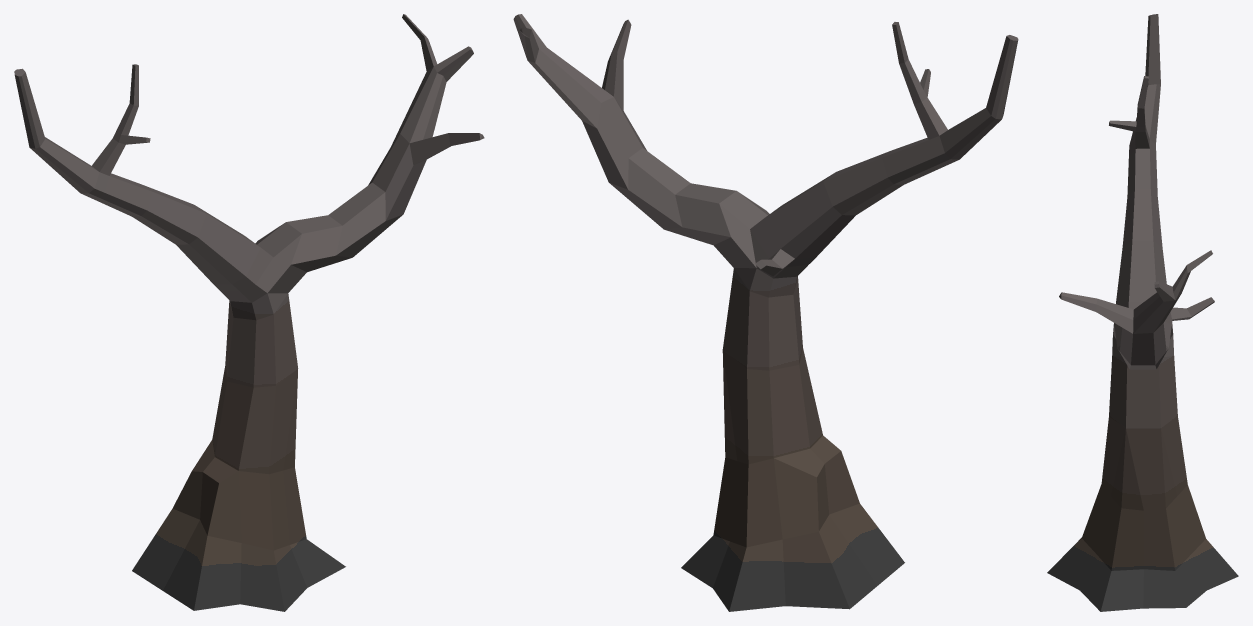
The model's file is OakDead_006.fbx.
3 renders of one model, left to right at view 1: azimuth 30°, elevation 25°; view 2: azimuth 150°, elevation 25°; view 3: azimuth 270°, elevation 25°, orthographic. The views are drawn at different scales.
Visible parts, largest first — view 1: OakDead.006; view 2: OakDead.006; view 3: OakDead.006.
Boxes of the visible parts, x1,y1,x2,y2 form: OakDead.006: (14,14,484,611); OakDead.006: (513,14,1018,611); OakDead.006: (1047,14,1238,611).
Bounding box in the file's own units: 9.54 × 10.8 × 3.97.
